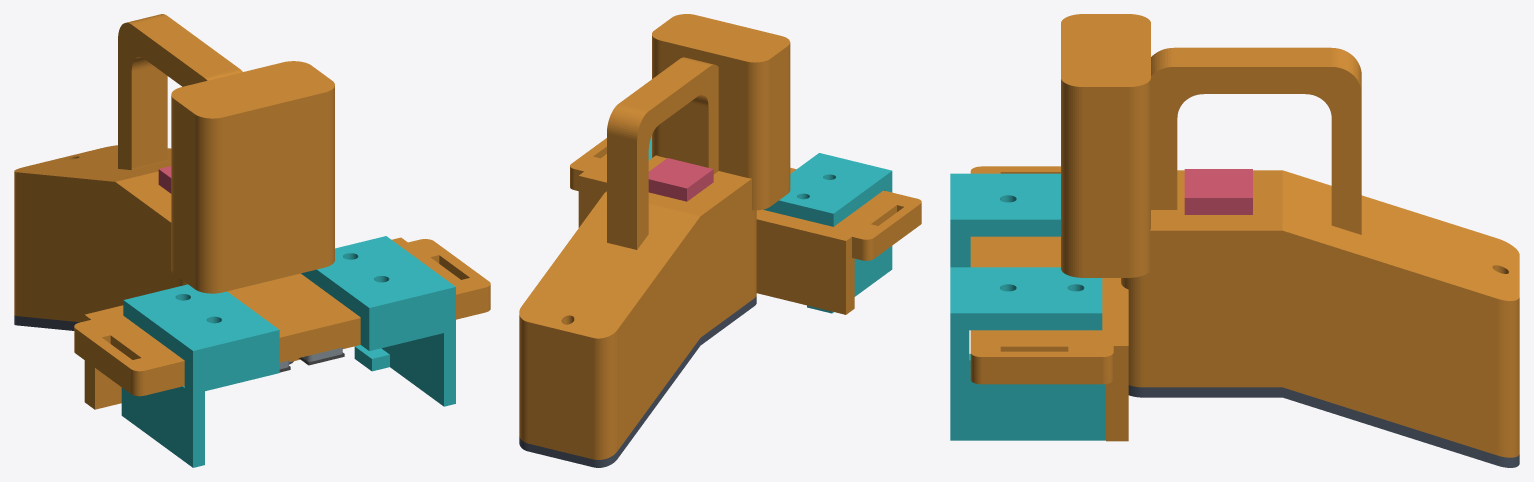
Rendered from blaster-body.glb.
The picture shows the model from 3 angles, left to right: view 1: azimuth 30°, elevation 25°; view 2: azimuth 150°, elevation 25°; view 3: azimuth 270°, elevation 25°; orthographic projection. The views are drawn at different scales.
Parts seen in each view (by area): view 1: component_0, component_2, component_1, component_3; view 2: component_0, component_2, component_10, component_3; view 3: component_0, component_1, component_2, component_3, component_10.
Boxes of the visible parts, x1,y1,x2,y2 form: component_0: (14,14,490,409); component_2: (121,284,279,467); component_1: (301,236,455,406); component_3: (14,315,293,364); component_0: (519,14,921,459); component_2: (763,153,892,313); component_10: (648,158,713,201); component_3: (519,296,756,467); component_0: (970,14,1519,457); component_1: (950,267,1105,440); component_2: (950,173,1060,267); component_3: (1128,385,1519,467); component_10: (1184,169,1252,214).
Size of the model in its own units: 0.12 by 0.1151 by 0.1514.
